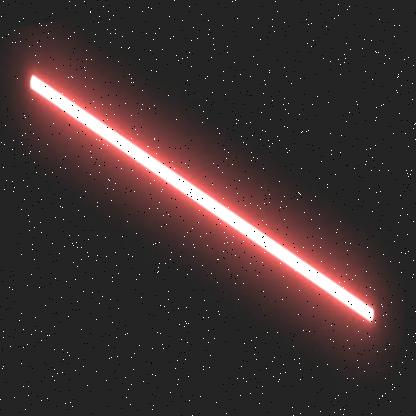sith_lightsaber: (8, 12, 413, 384)
